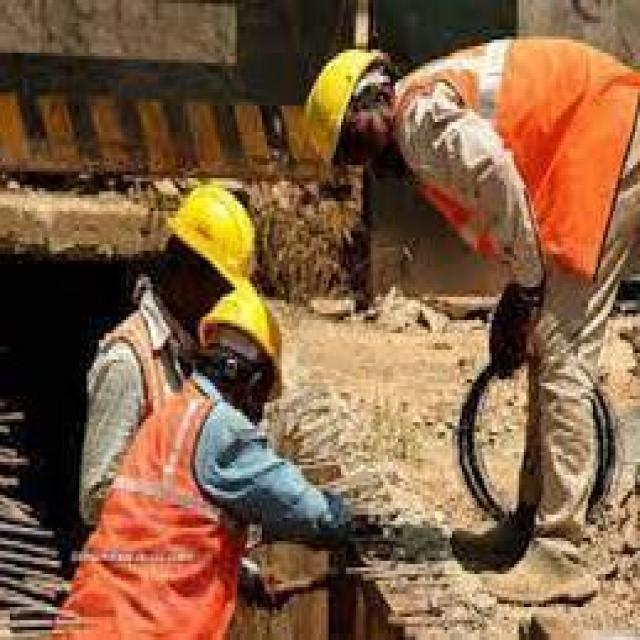Reflective-Jacket: (388, 23, 637, 287), (42, 376, 264, 637), (88, 296, 198, 463)
Safety-Helmet: (264, 36, 398, 188), (151, 175, 269, 297), (186, 274, 302, 396)
